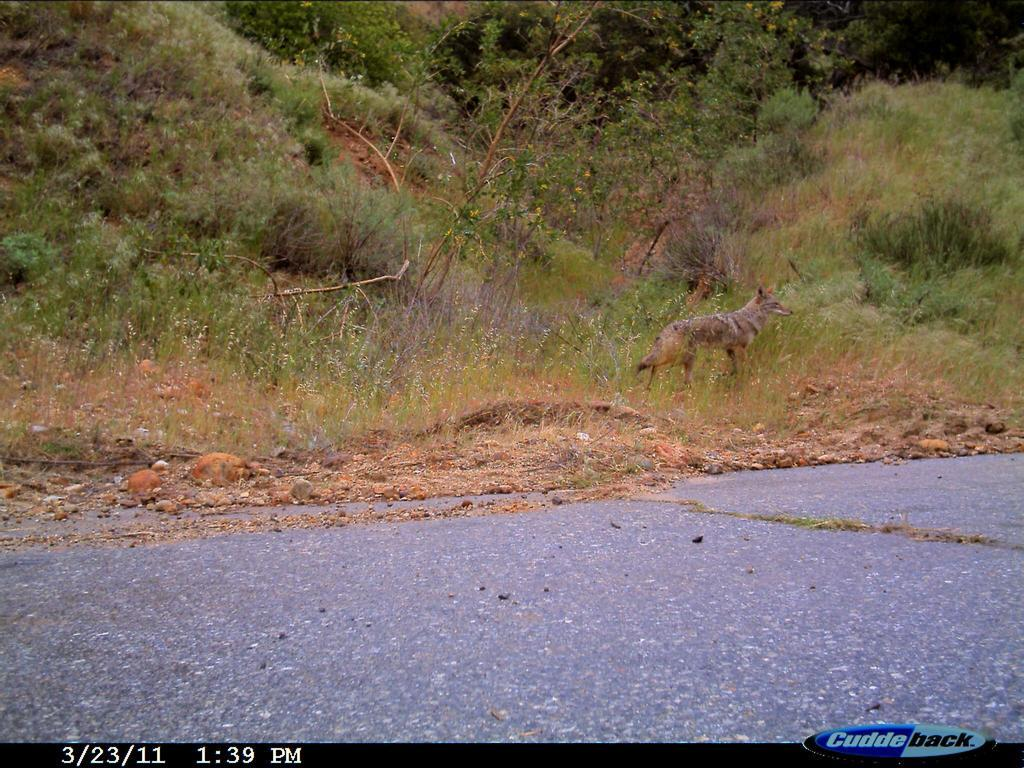coyote: (621, 277, 802, 414)
